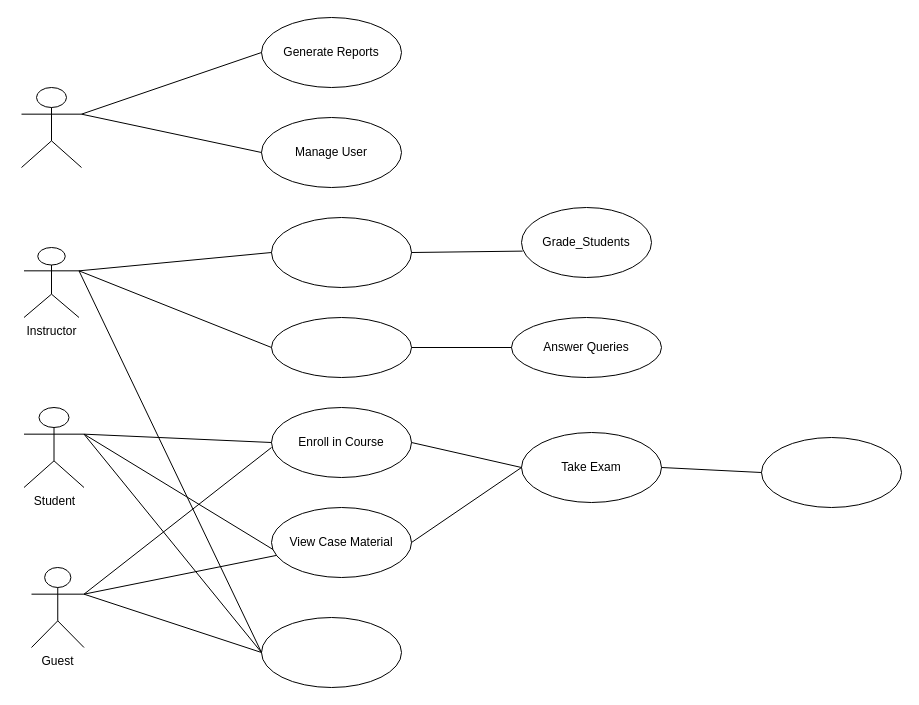
The diagram is 919 pixels wide and 705 high, and some of its shapes have lost their labels. The shapes that lost their labels are listed below. From the top down, each one's box as (x1, y1, x2, y2) in pixels, then its label:
(20, 86, 82, 168): Adminstrator
(270, 216, 412, 288): Create Lesson Plans
(270, 316, 412, 378): Conduct Class
(760, 436, 902, 508): View Progress
(260, 616, 402, 688): Contact Support
